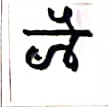ai_matra: (52, 7, 82, 30)
